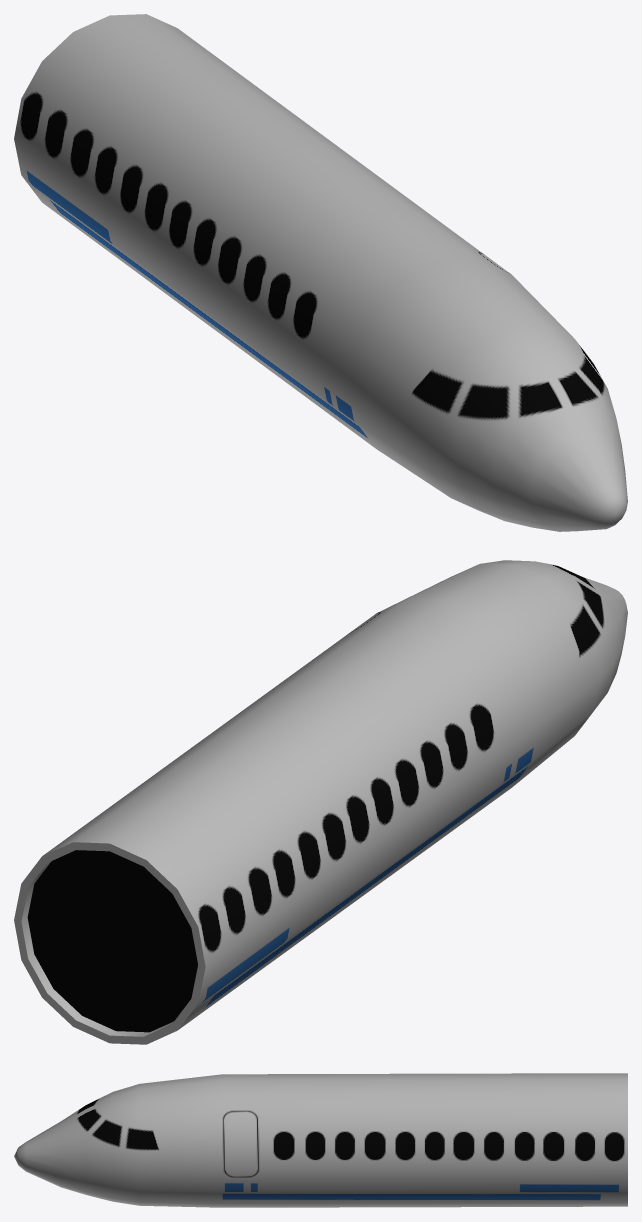
Rendered from Frente.fbx.
3 renders of one model, top to bottom at view 1: azimuth 30°, elevation 25°; view 2: azimuth 150°, elevation 25°; view 3: azimuth 270°, elevation 25°, orthographic. The views are drawn at different scales.
Visible parts, largest first — view 1: Corpo.002; view 2: Corpo.002; view 3: Corpo.002.
Boxes of the visible parts, bbox=[...] form: Corpo.002: bbox=[14, 14, 627, 531]; Corpo.002: bbox=[14, 560, 627, 1044]; Corpo.002: bbox=[14, 1073, 627, 1207].
Size of the model in its own units: 94.38 by 94.92 by 432.
